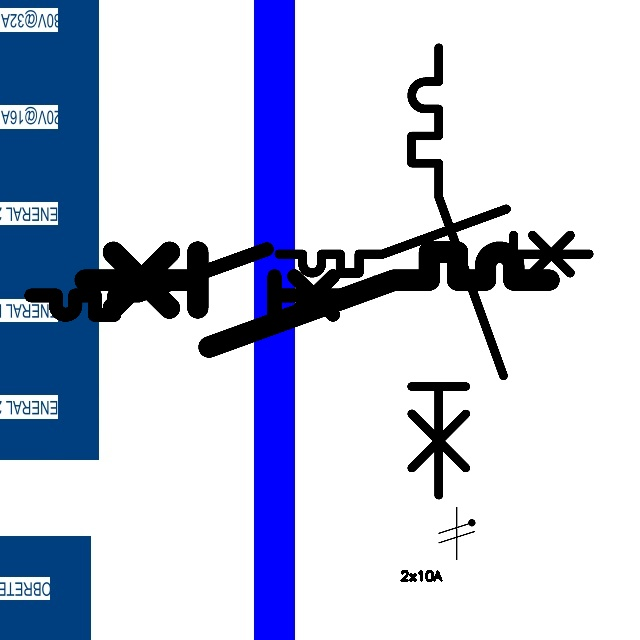interruptor_termomagnetico: (73, 240, 561, 359), (400, 36, 515, 507), (23, 241, 361, 323), (271, 201, 597, 281)
